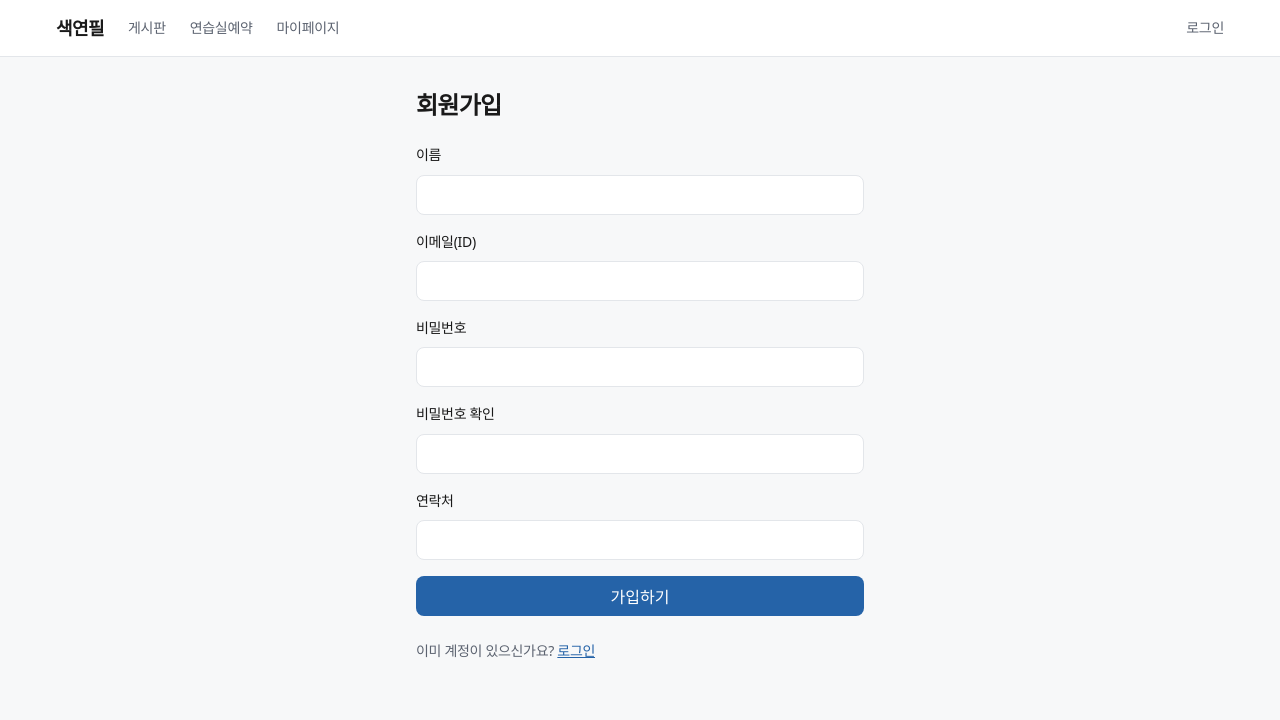
Test: S-01 가입 후 로그인까지 › 가입에 성공하면 로그인 화면으로 이동하며 안내가 표시된다
In the field labelled "이름": (640, 195) [416,175,864,215], type "김색소"
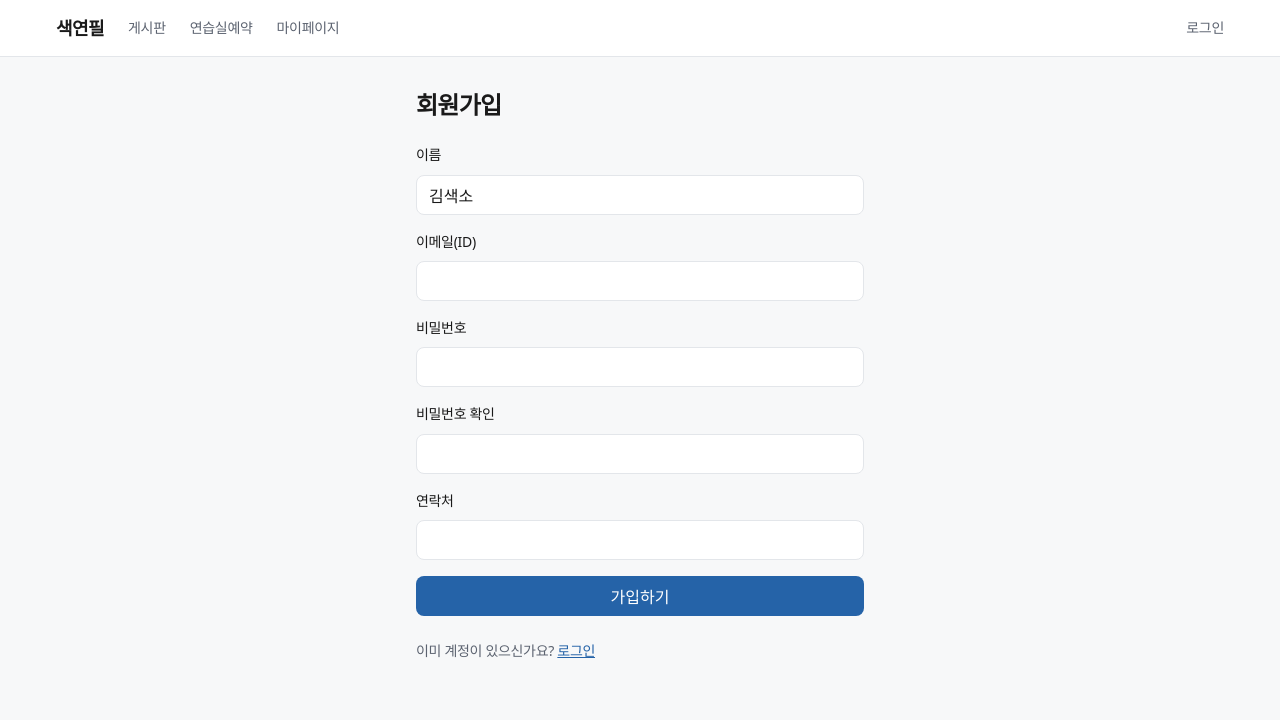
In the field labelled "이메일(ID)": (640, 281) [416,261,864,301], type "sax@example.com"
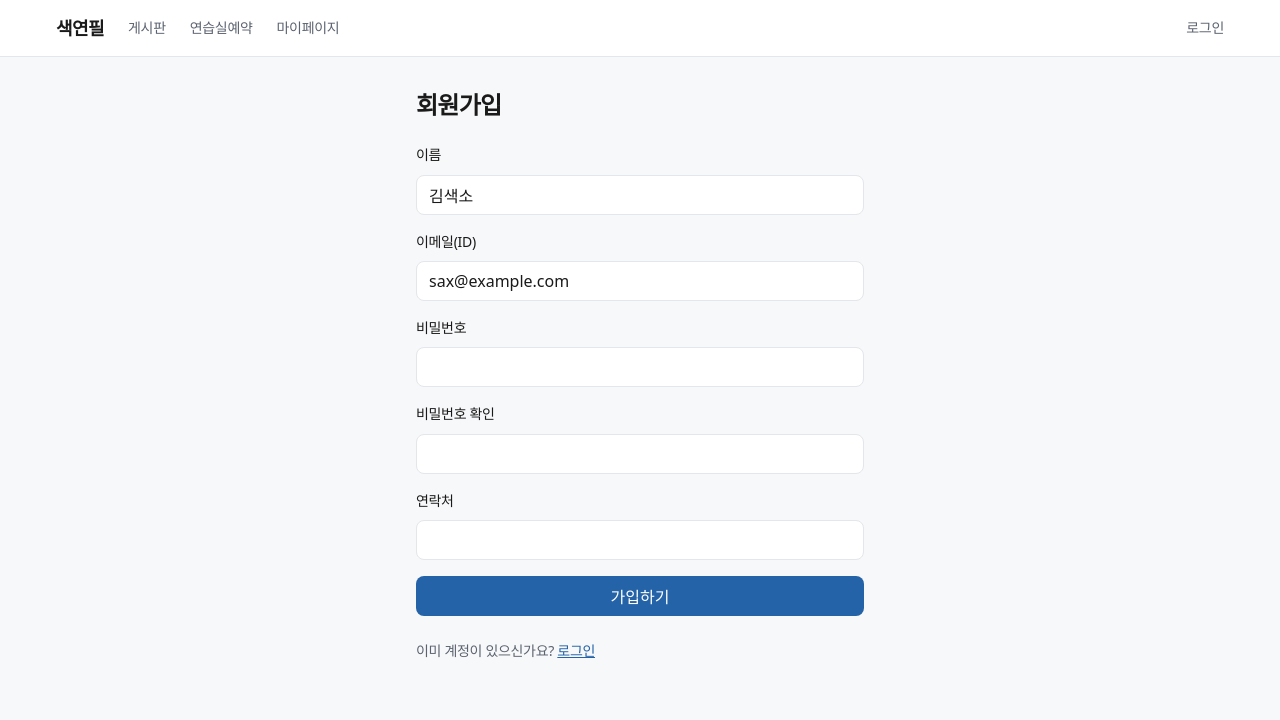
In the password field labelled "비밀번호": (640, 367) [416,347,864,387], type "password123"
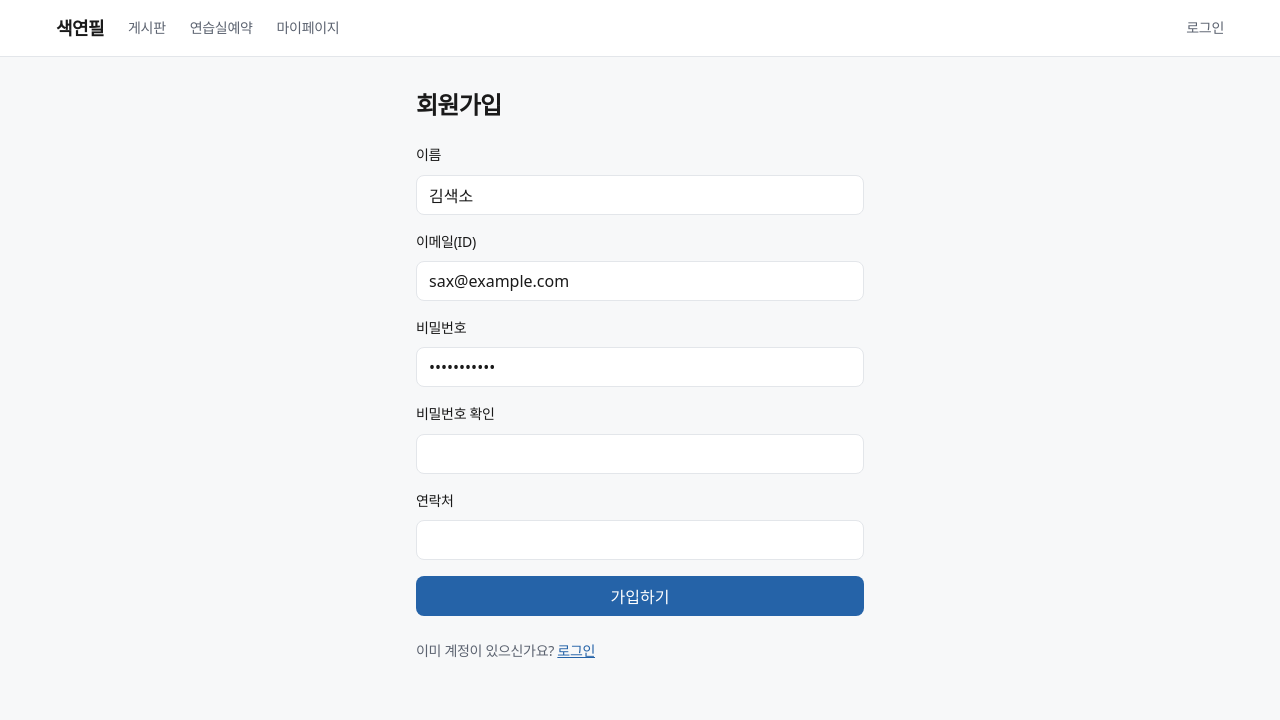
In the password field labelled "비밀번호 확인": (640, 454) [416,434,864,474], type "password123"
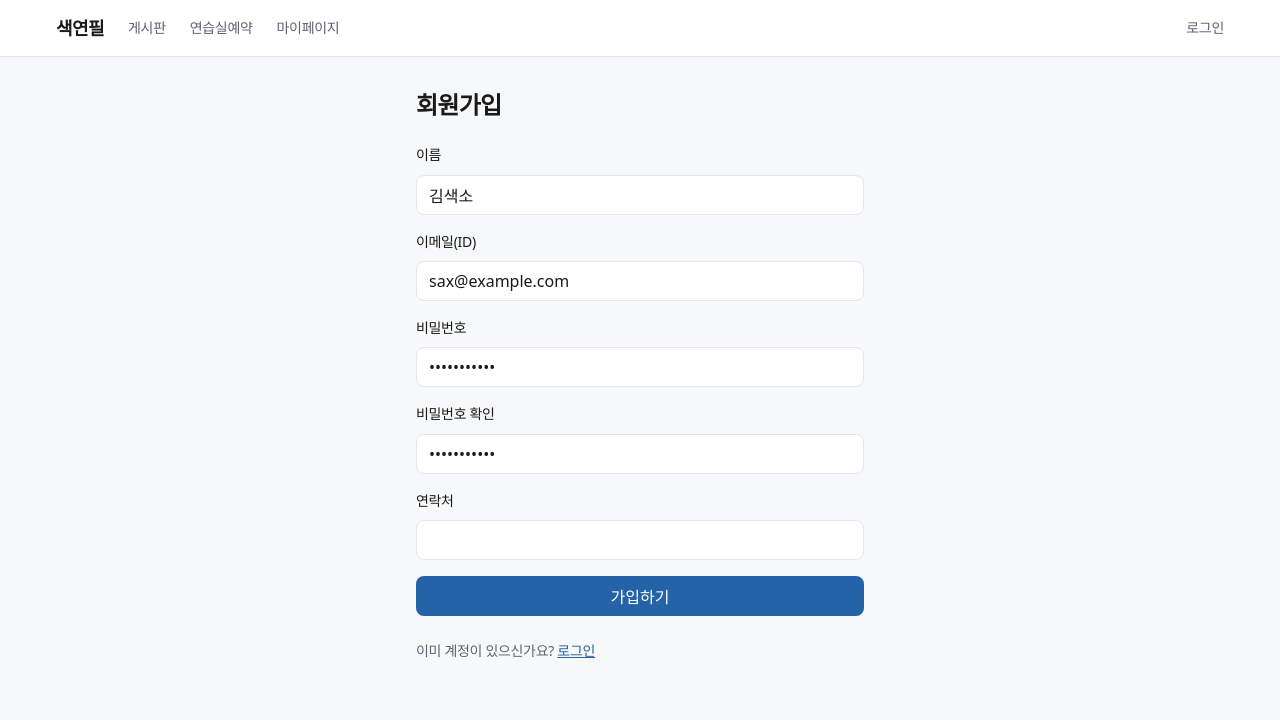
In the field labelled "연락처": (640, 540) [416,520,864,560], type "010-1234-5678"
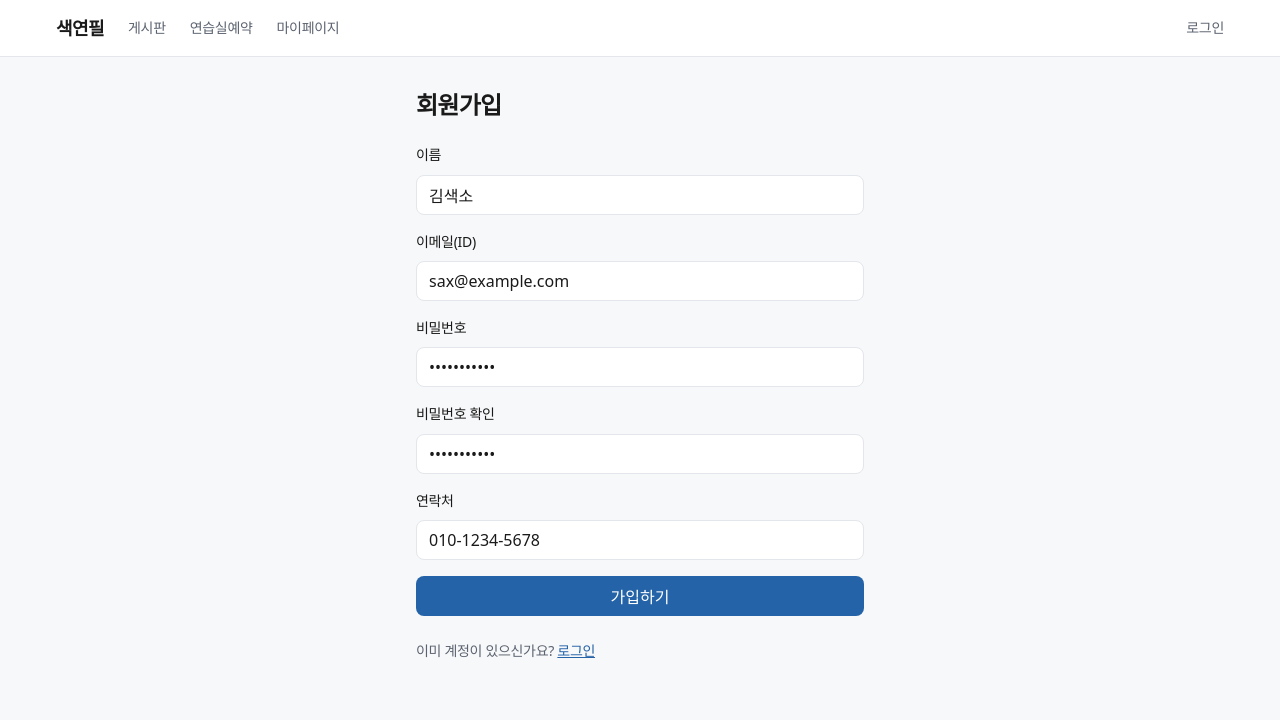
Click the button "가입하기": (640, 596) [416,576,864,616]
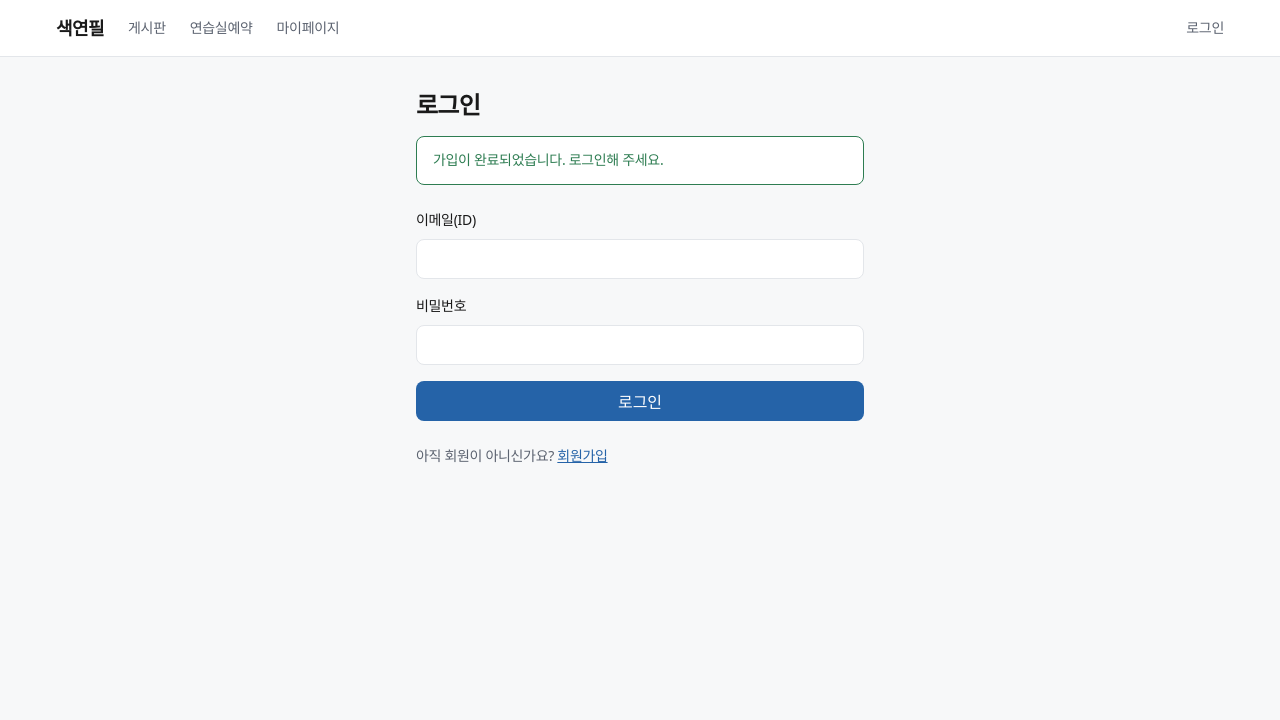
Expected: the link "로그인" is shown, [1186,17,1224,39]
Now the text "가입이 완료되었습니다. 로그인해 주세요." is shown, box [416,136,864,185]
